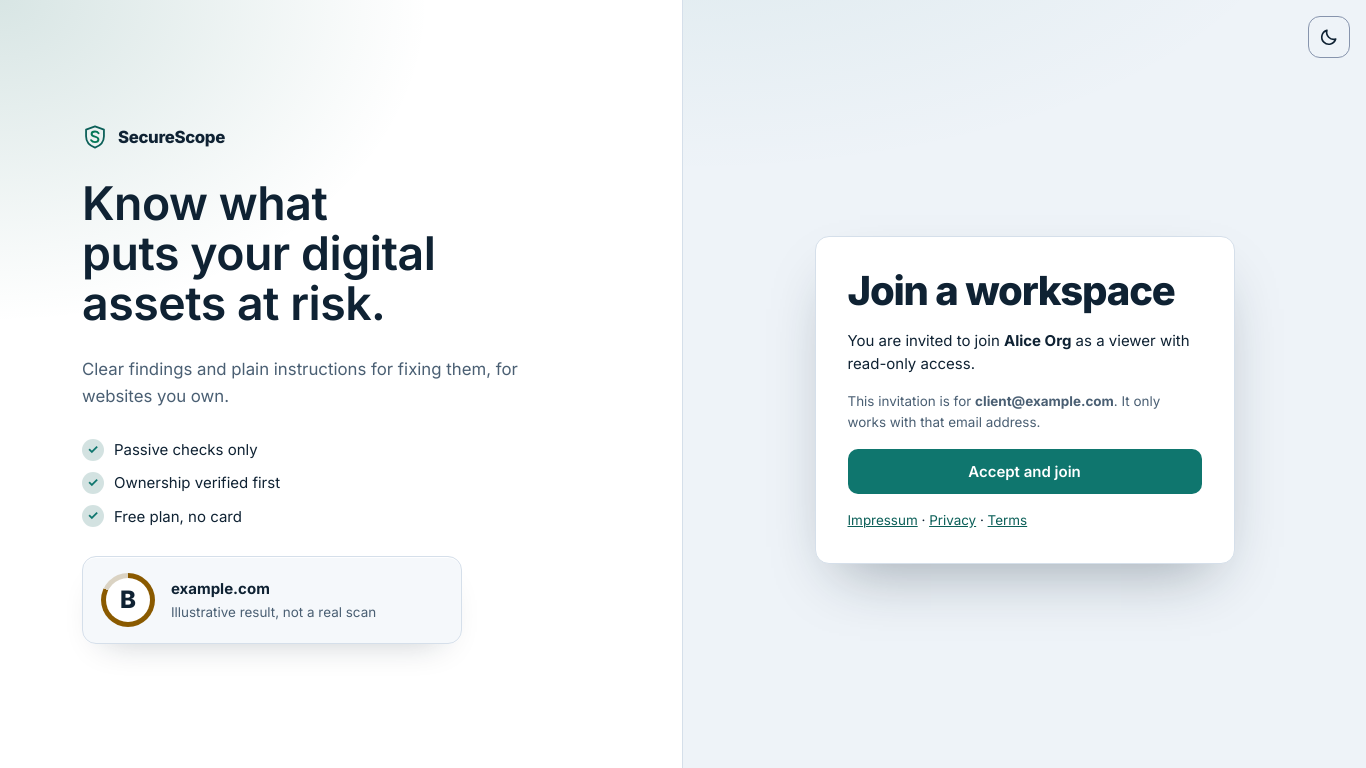
Scenario: invitation links › lets the right person accept, then selects the workspace
Click the button "Accept and join" at coordinates (1024, 472), box 848,449 -> 1202,494
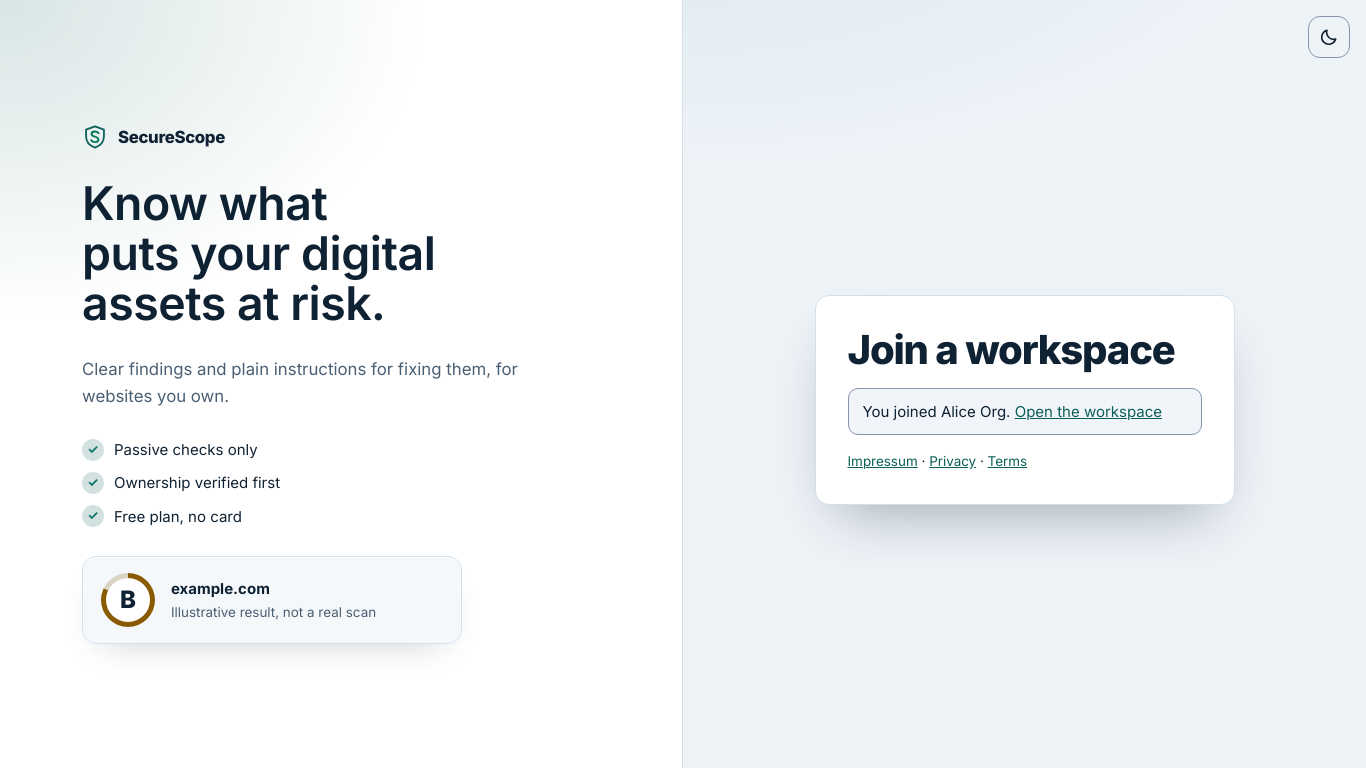
Check: the text "You joined Alice Org. Open the workspace" is shown, box 848,388 -> 1202,435
